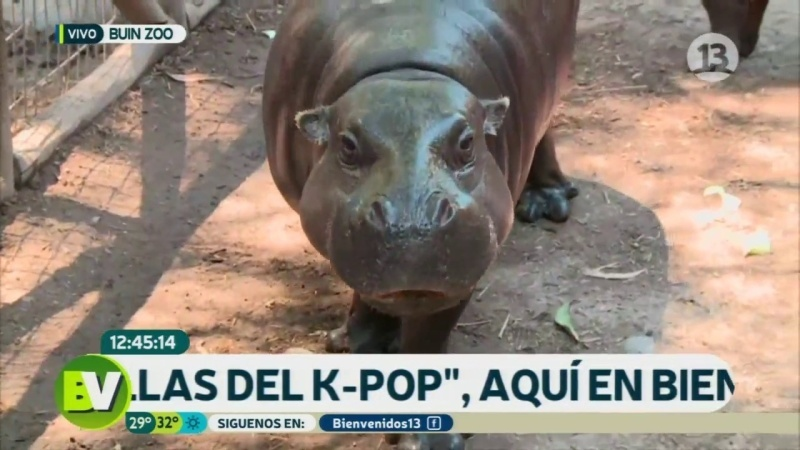hipopotamo: (253, 1, 615, 357)
